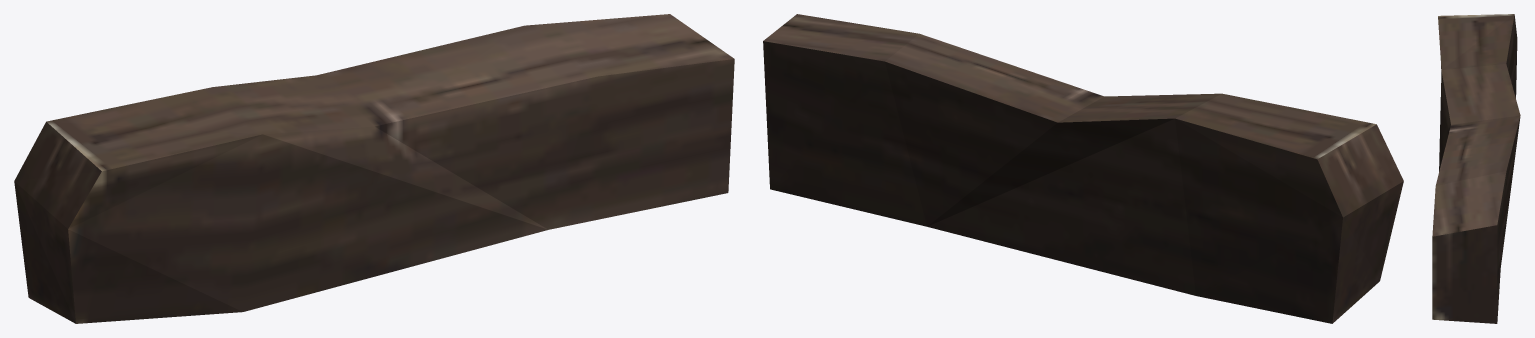
The model's file is bandit_beam_02.fbx.
The picture shows the model from 3 angles, left to right: view 1: azimuth 30°, elevation 25°; view 2: azimuth 150°, elevation 25°; view 3: azimuth 270°, elevation 25°; orthographic projection. The views are drawn at different scales.
Visible parts, largest first — view 1: obj0.577; view 2: obj0.577; view 3: obj0.577.
Boxes of the visible parts, left/top/right/bottom form: obj0.577: left=14, top=14, right=734, bottom=323; obj0.577: left=763, top=14, right=1403, bottom=323; obj0.577: left=1432, top=14, right=1520, bottom=323.
Bounding box in the file's own units: 1.87 × 0.5123 × 0.3368.
